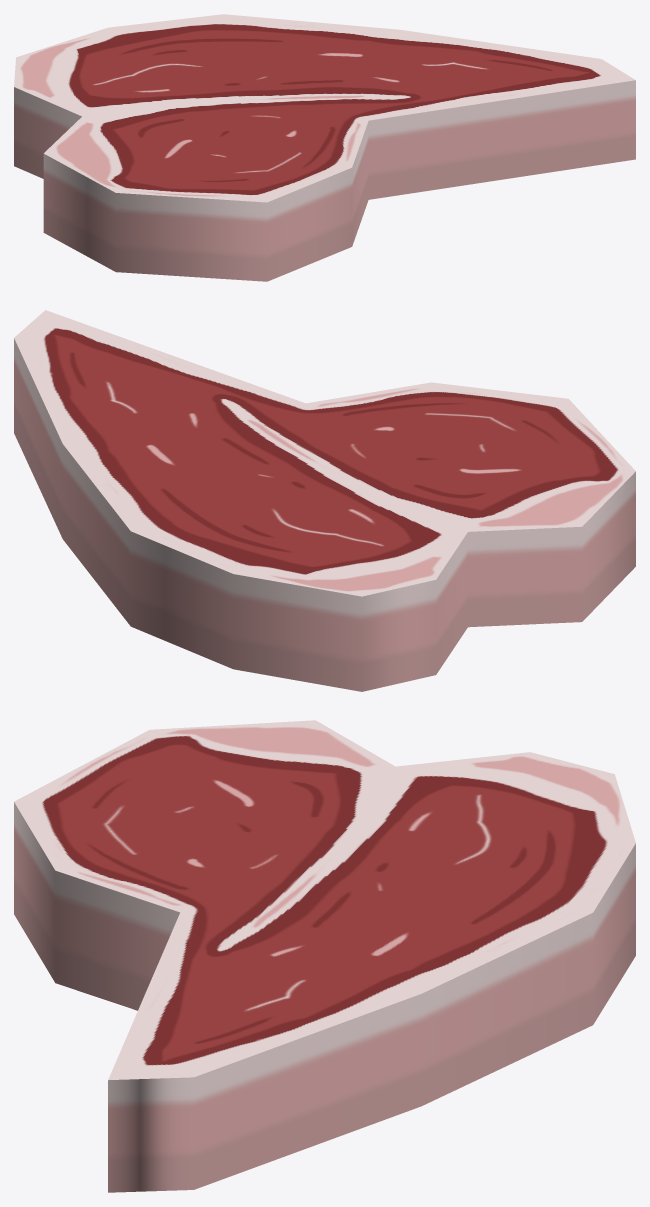
File: Steak.fbx
3 views of the same model, one above another, from view 1: azimuth 30°, elevation 25°; view 2: azimuth 150°, elevation 25°; view 3: azimuth 270°, elevation 25° (orthographic). The views are drawn at different scales.
Parts seen in each view (by area): view 1: pCylinder1; view 2: pCylinder1; view 3: pCylinder1.
Boxes of the visible parts, x1,y1,x2,y2 form: pCylinder1: (14, 14, 635, 281); pCylinder1: (14, 310, 635, 691); pCylinder1: (14, 720, 635, 1192).
Size of the model in its own units: 10.85 by 1.58 by 7.92.
